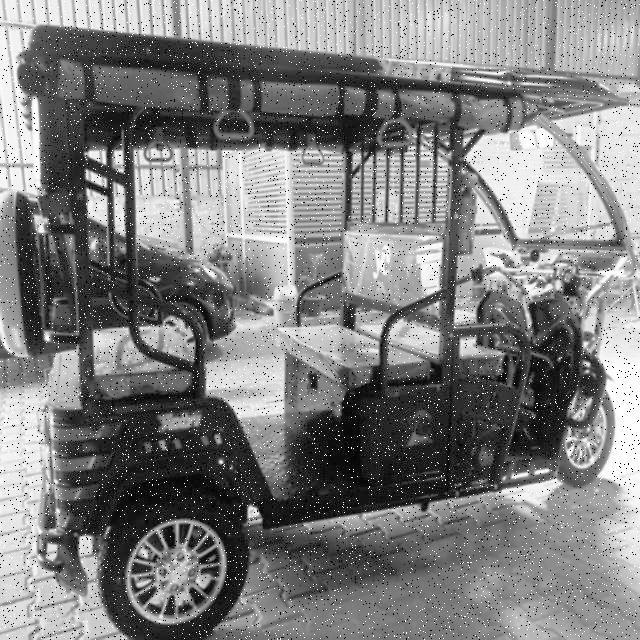Toto: (14, 21, 630, 639)
